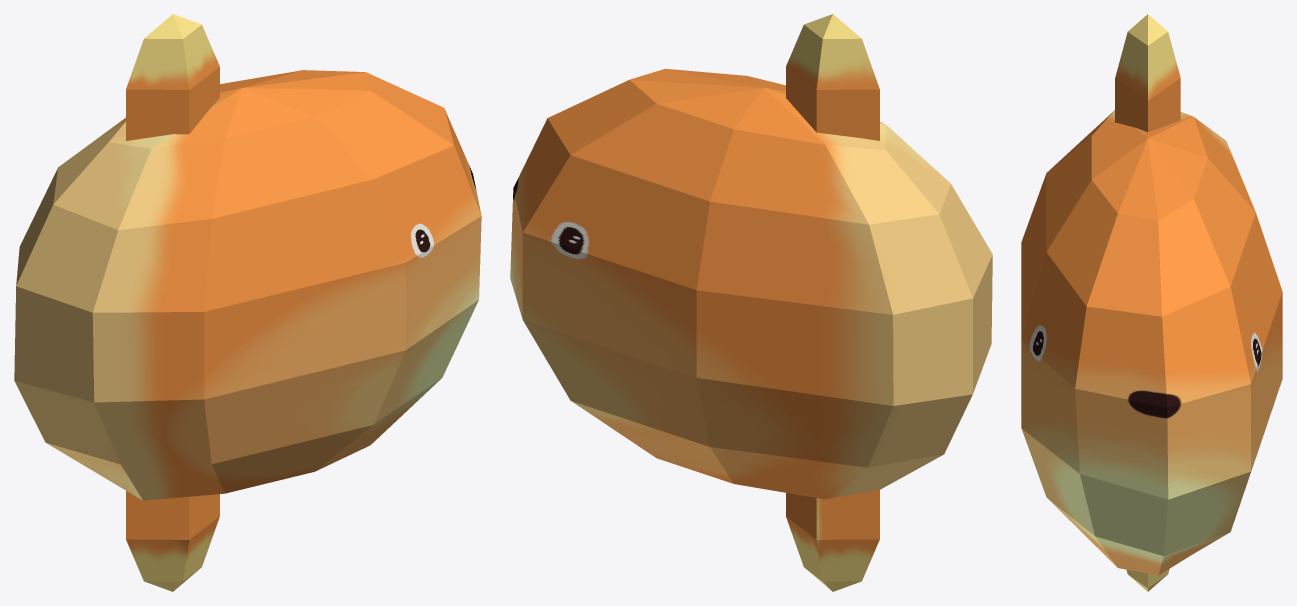
The model's file is fish.glb.
3 views of the same model, side by side, from view 1: azimuth 30°, elevation 25°; view 2: azimuth 150°, elevation 25°; view 3: azimuth 270°, elevation 25° (orthographic).
Parts seen in each view (by area): view 1: Fih; view 2: Fih; view 3: Fih.
Boxes of the visible parts, <box> form: Fih: <box>14,14,481,591</box>; Fih: <box>510,14,992,591</box>; Fih: <box>1021,14,1282,591</box>.
Size of the model in its own units: 0.9444 by 1.13 by 0.4625.
3 materials, 3 textured.
